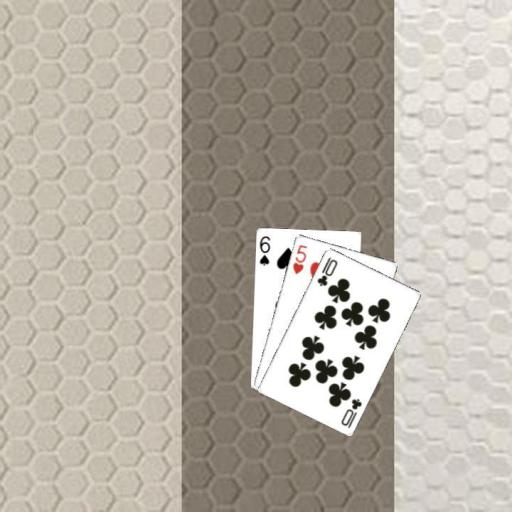10C: (338, 395, 363, 430), (314, 254, 339, 287)
5H: (290, 241, 309, 275)
6S: (256, 233, 272, 267)
